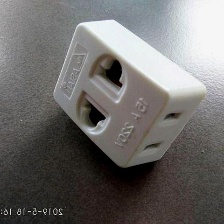three_eye_plug: (50, 18, 208, 170)
